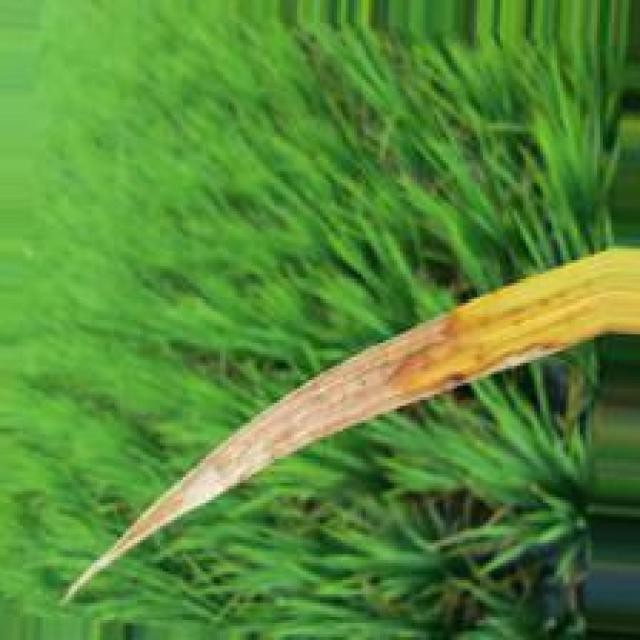Leaf_Scald: (120, 309, 572, 549)
